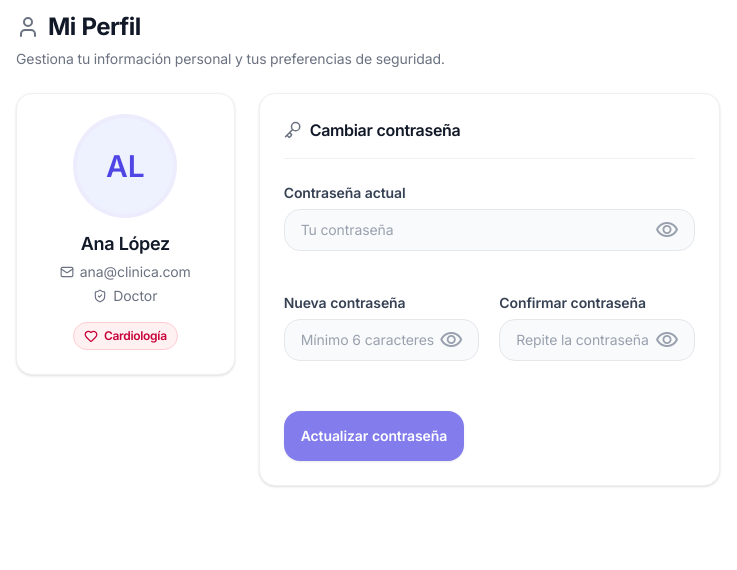
Test case: ProfilePage › shows the wrong-current-password message for auth/invalid-credential errors
The width and height of the screenshot is (737, 570).
Type "incorrecta" into the password field labelled "Contraseña actual" at (489, 230), box [284,209,695,251]
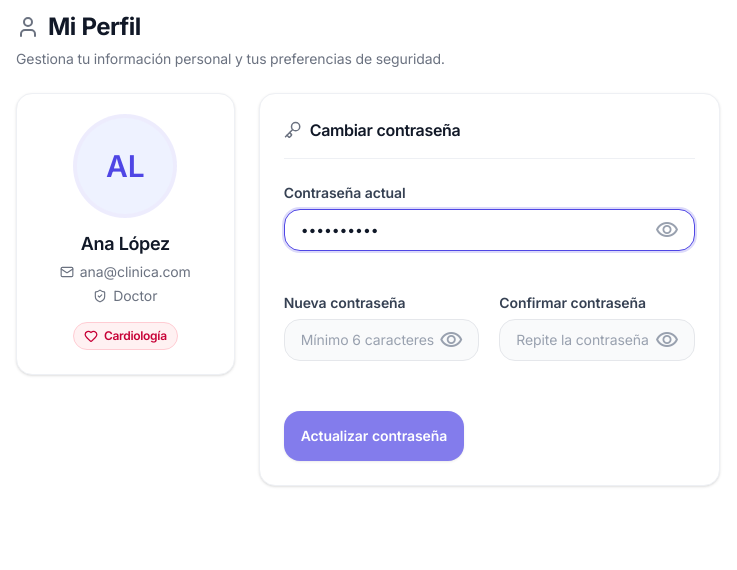
Type "nueva123" into the password field labelled "Nueva contraseña" at (382, 340), box [284,319,479,361]
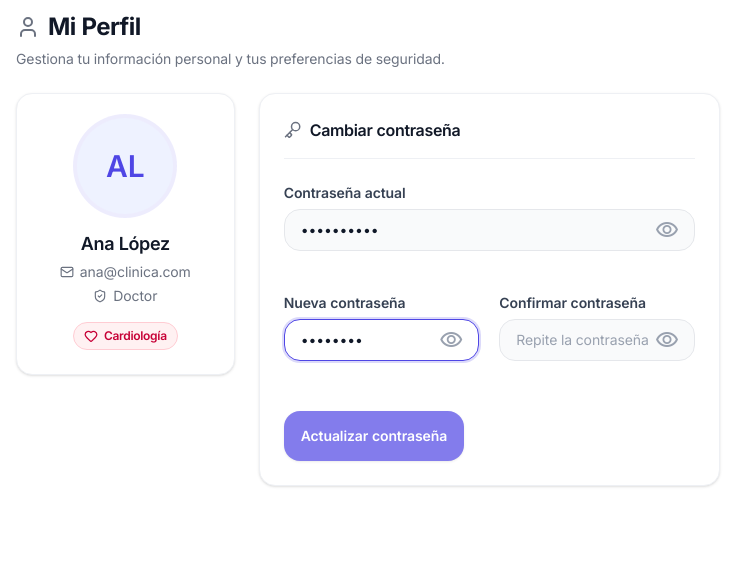
Type "nueva123" into the password field labelled "Confirmar contraseña" at (597, 340), box [499,319,695,361]
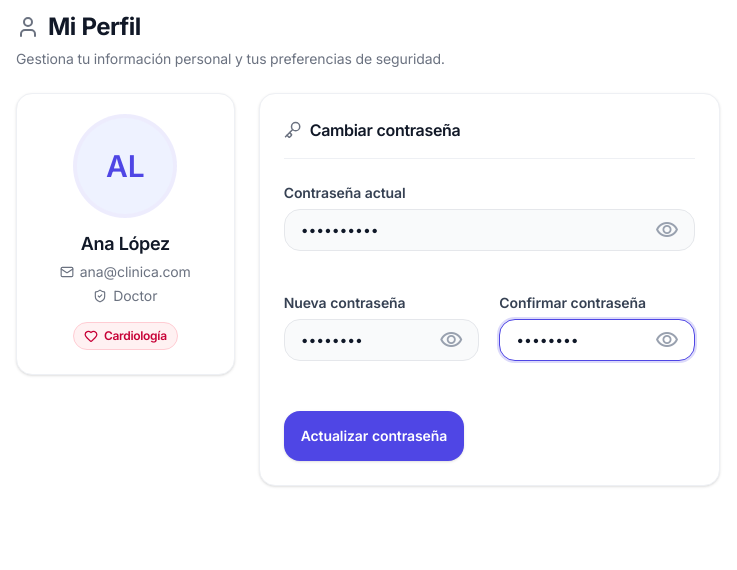
Click the button "Actualizar contraseña" at (374, 436), box [284,411,464,461]
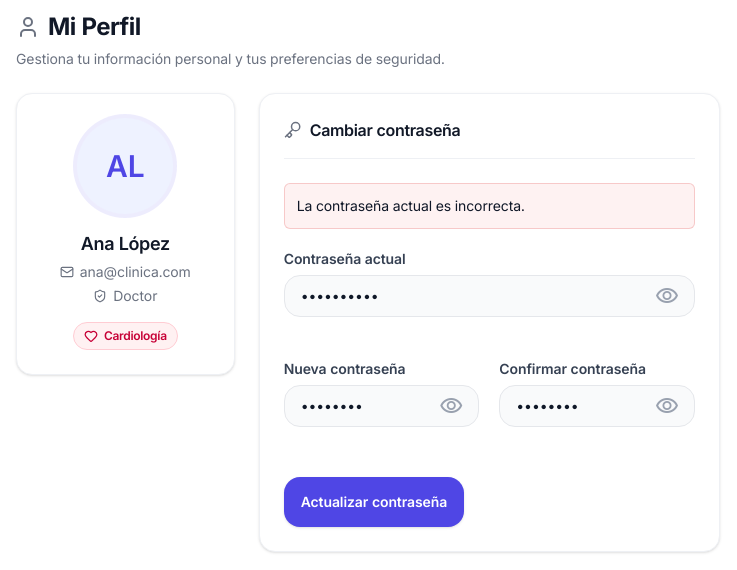
Expected: the text "La contraseña actual es incorrecta." is shown, [297,197,525,214]
